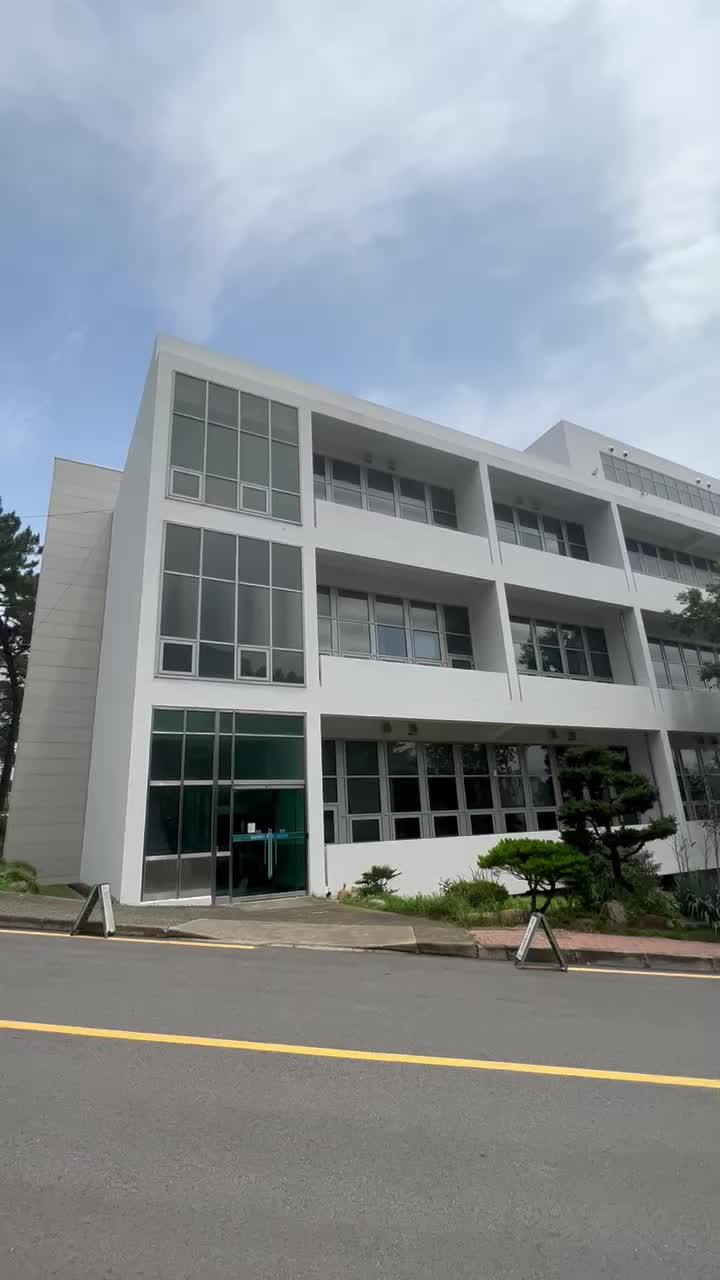building: (56, 342, 658, 872)
